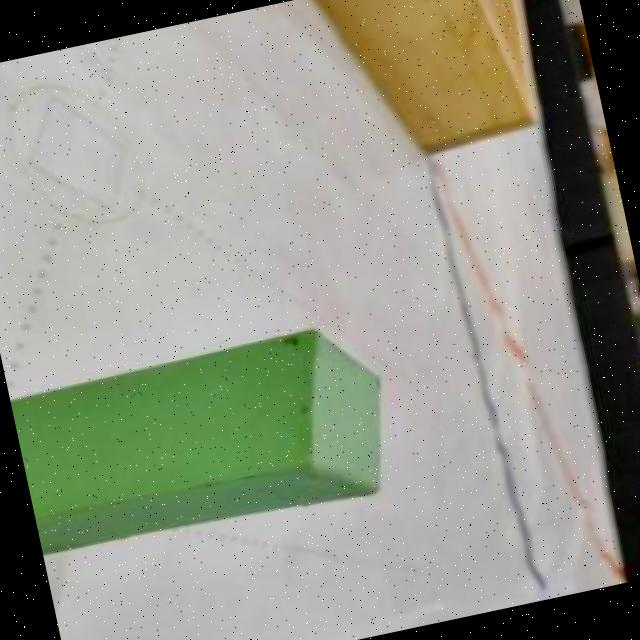greenbox: (8, 310, 410, 562)
